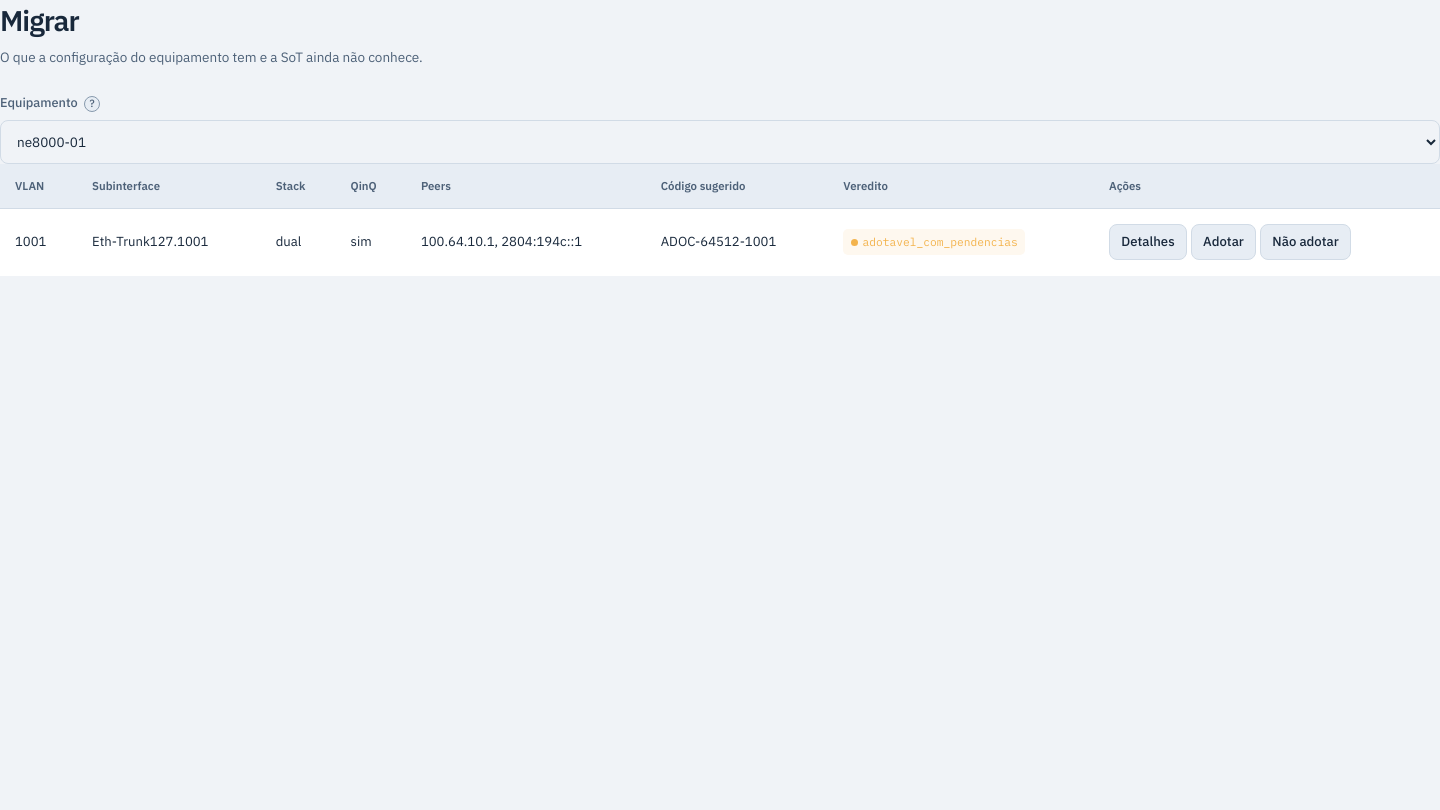
Test: Discovery › a falha no meio da sequência diz quantos saíram e não desfaz o que saiu
This screenshot has width=1440, height=810.
Click the button "Não adotar" at (1306,242), box [1260,224,1351,260]
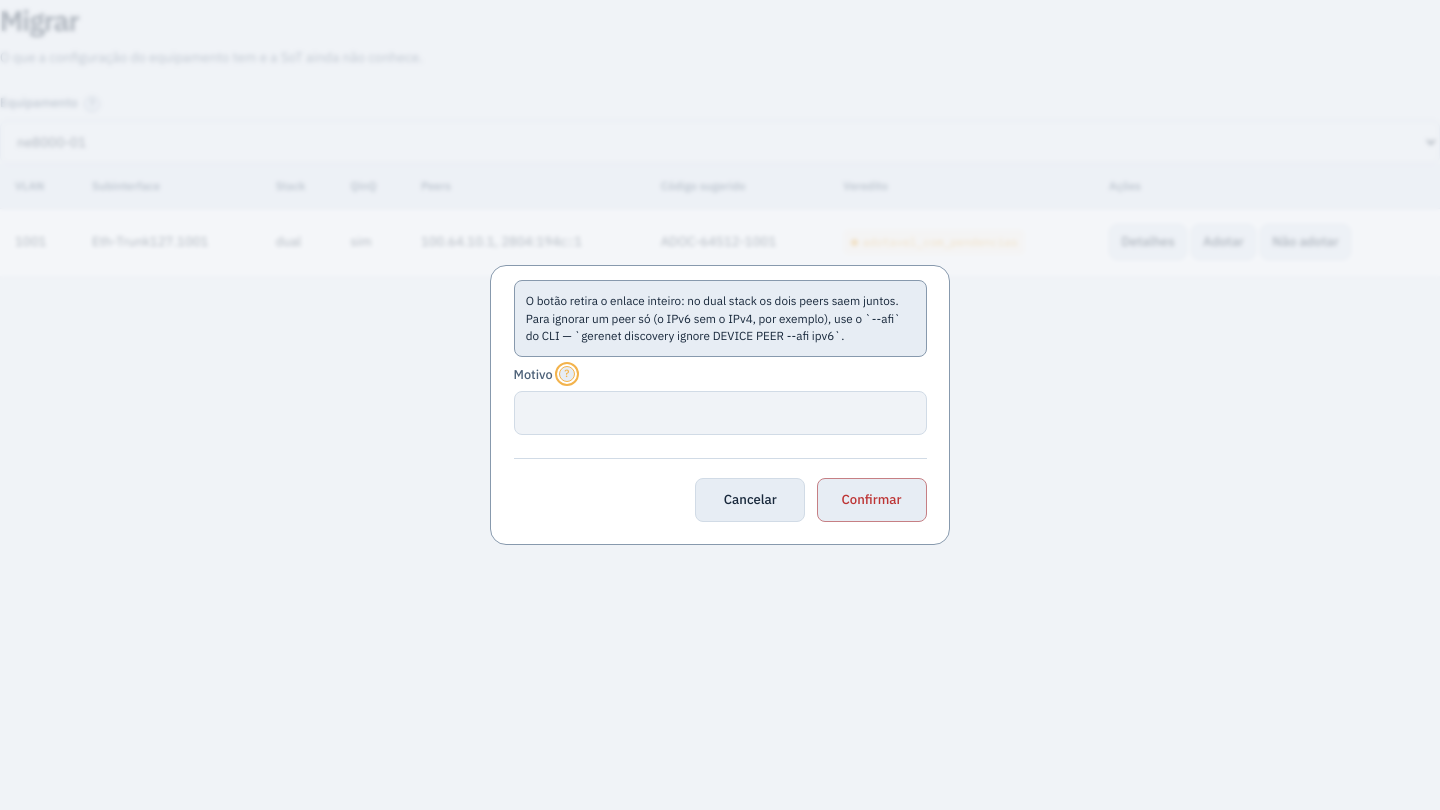
Click the button "Confirmar" at (872,500), box [816,478,926,522]
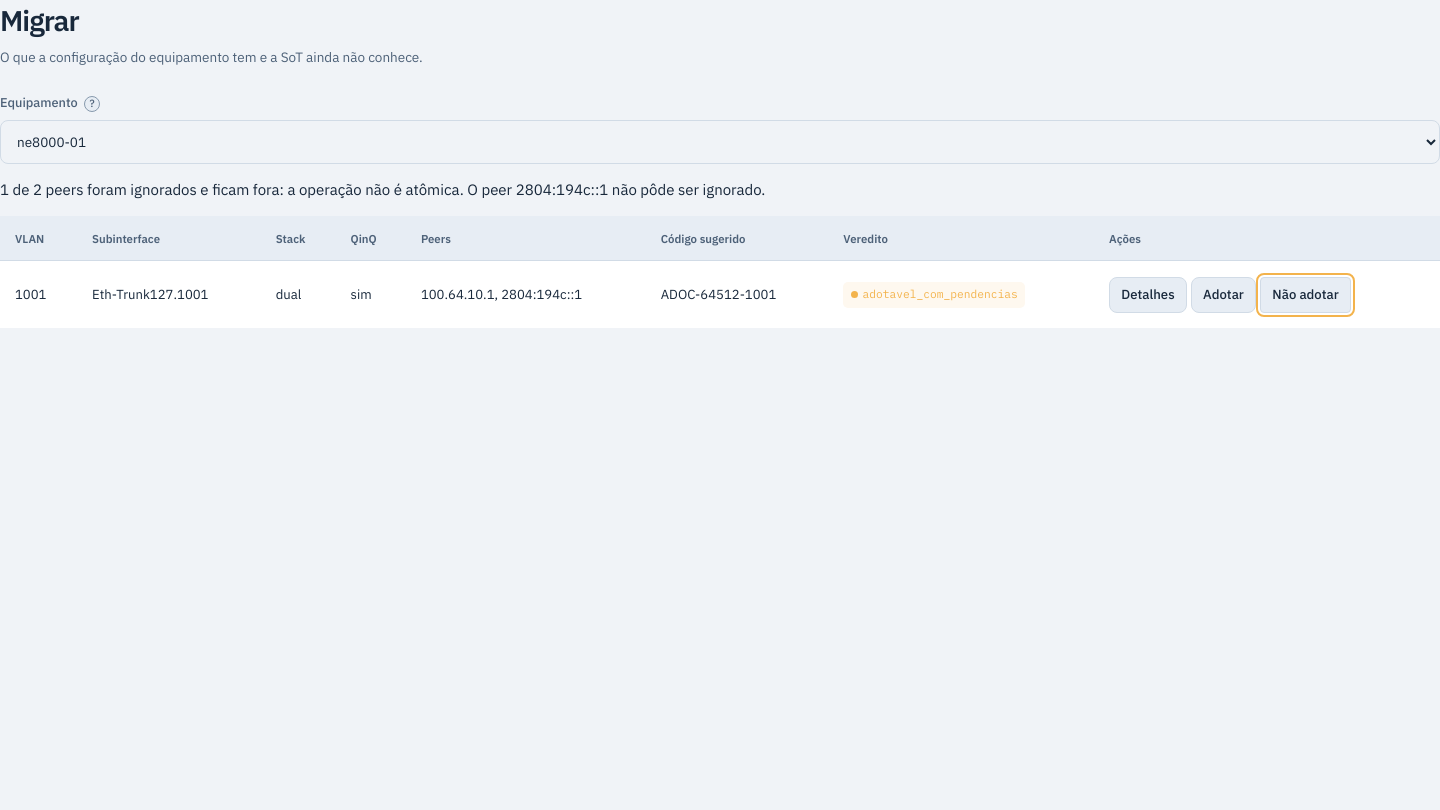
Now the message shows "1 de 2 peers foram ignorados e ficam fora: a operação não é atômica.", box [0,180,765,199]
